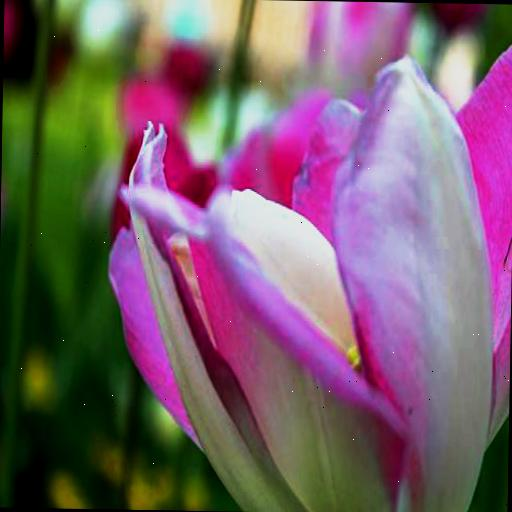tulip: (102, 37, 512, 512)
